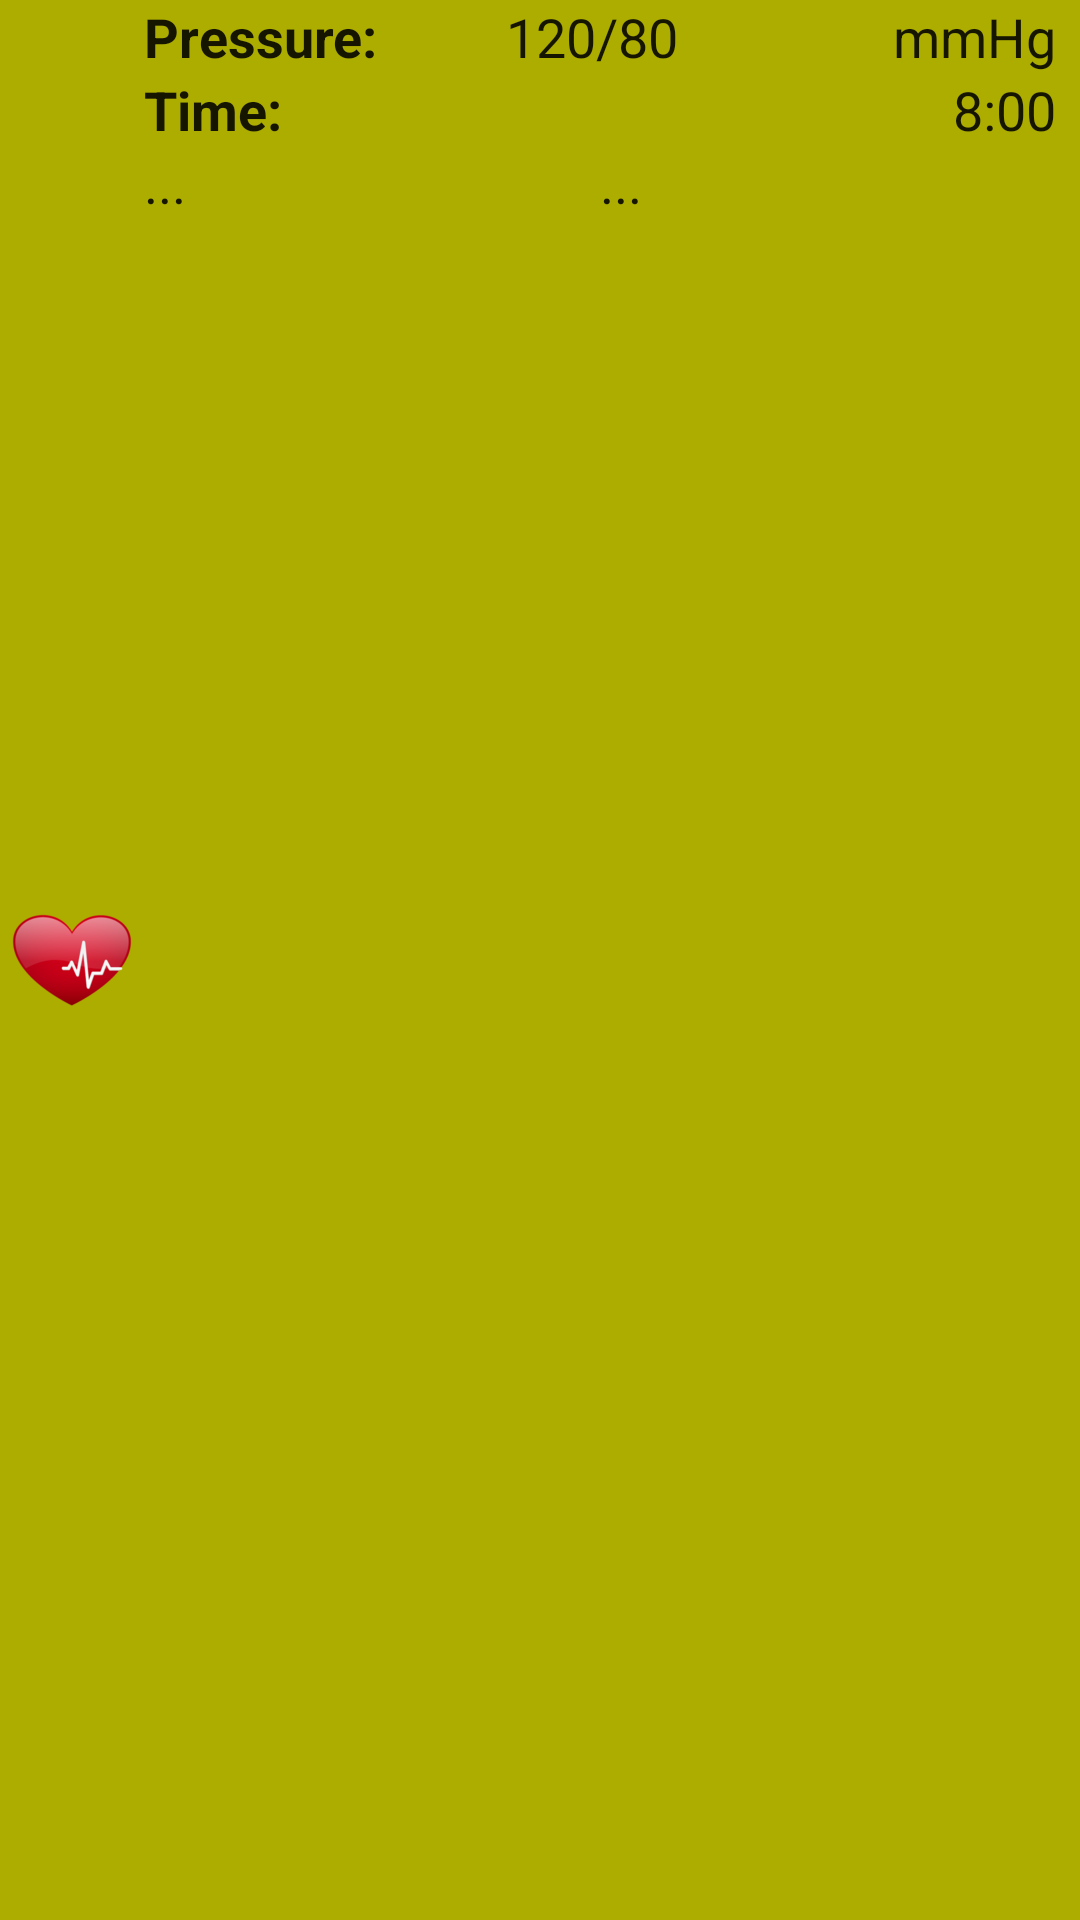

Screen size 1080px×1920px. Icon name, then its box in pixels as (x1, y1, x2, y2):
heartbeat: (13, 915, 131, 1006)
